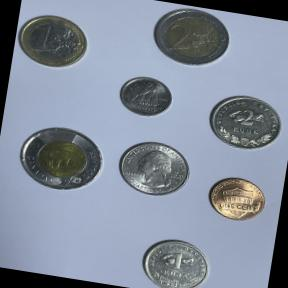coin: (11, 116, 112, 200), (143, 0, 239, 75), (200, 86, 288, 159), (11, 5, 96, 75), (111, 134, 197, 203), (200, 170, 272, 228), (112, 68, 178, 124)
